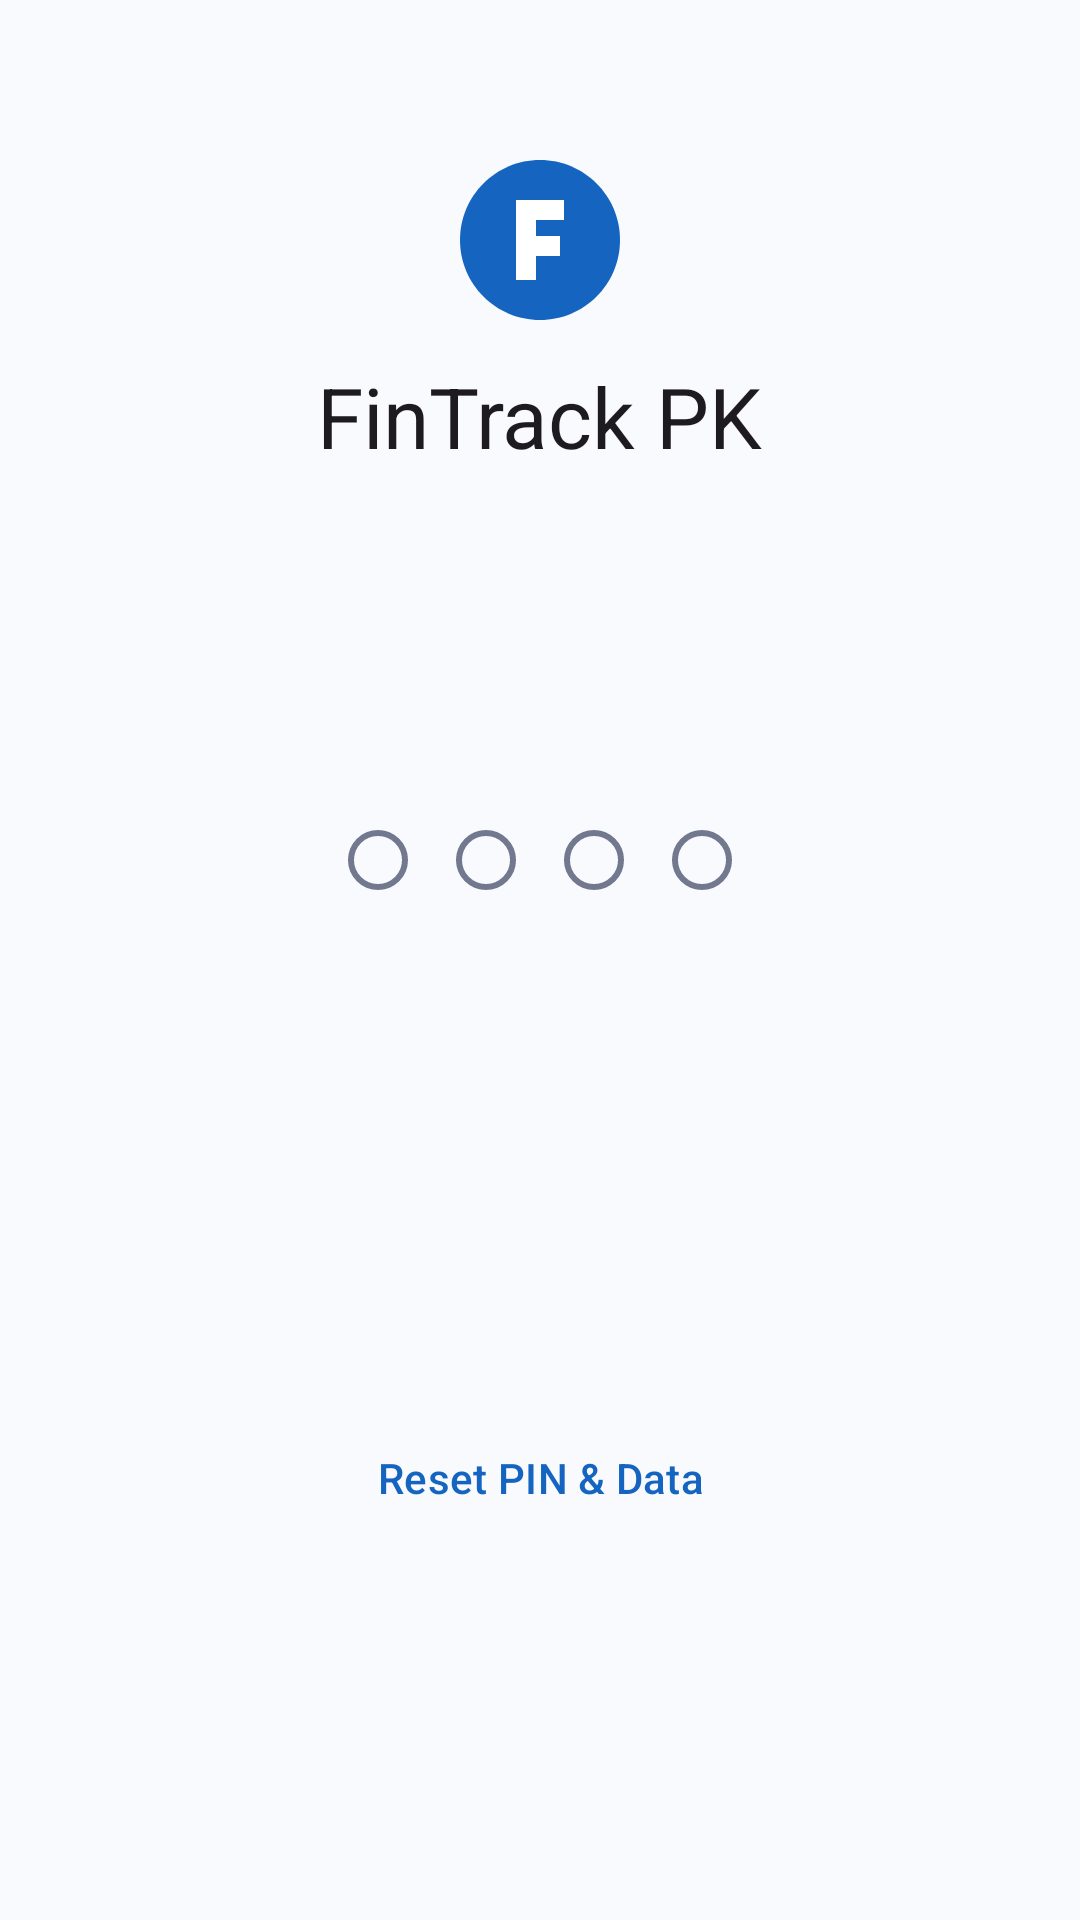

Named icons in this screenshot (1080 × 1920) and their bounding boxes, (x1, y1, x2, y2):
pin dot empty: (348, 830, 408, 890), (456, 830, 516, 890), (564, 830, 624, 890), (672, 830, 732, 890)
